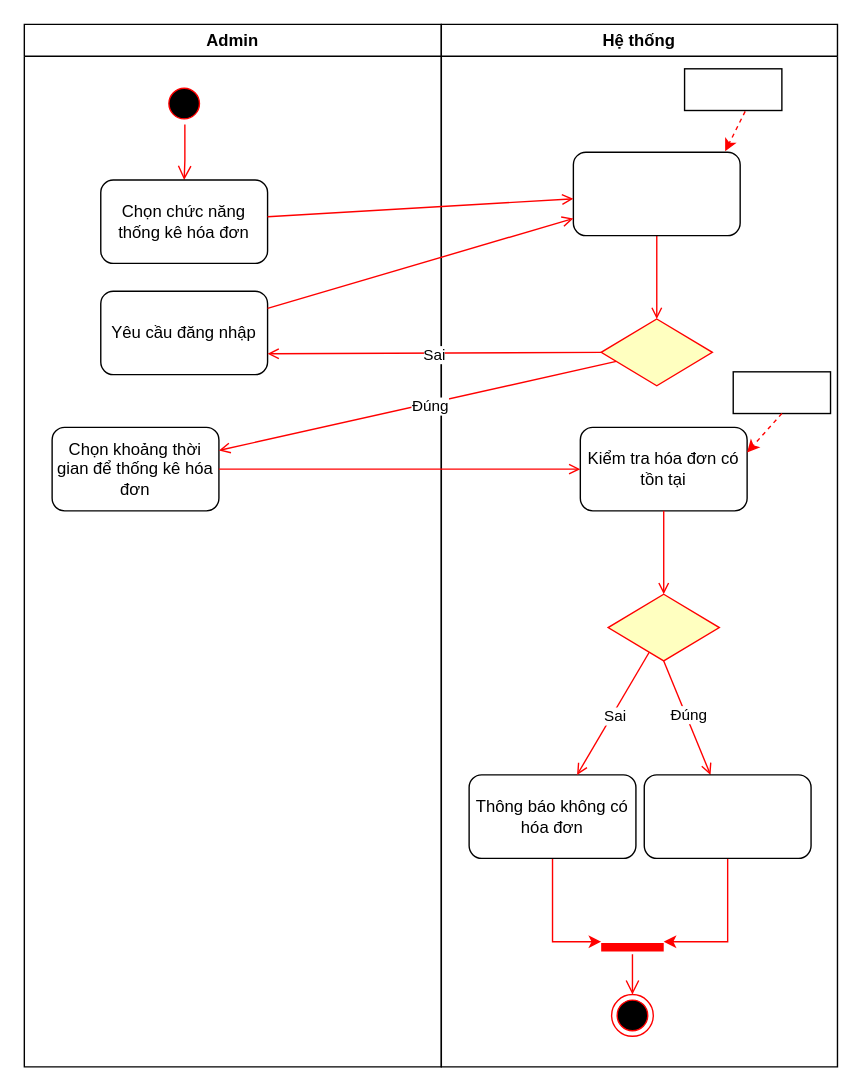
Some shapes in this 862 by 1091 pixel diagram are drawn without their labels. Each missing label, with the box of its shape:
Hiển thị danh sách hóa đơn: (643, 774, 811, 858)
Hóa đơn: (732, 370, 831, 414)
Kiểm tra đăng nhập: (572, 151, 740, 236)
Tài khoản: (683, 67, 782, 111)
